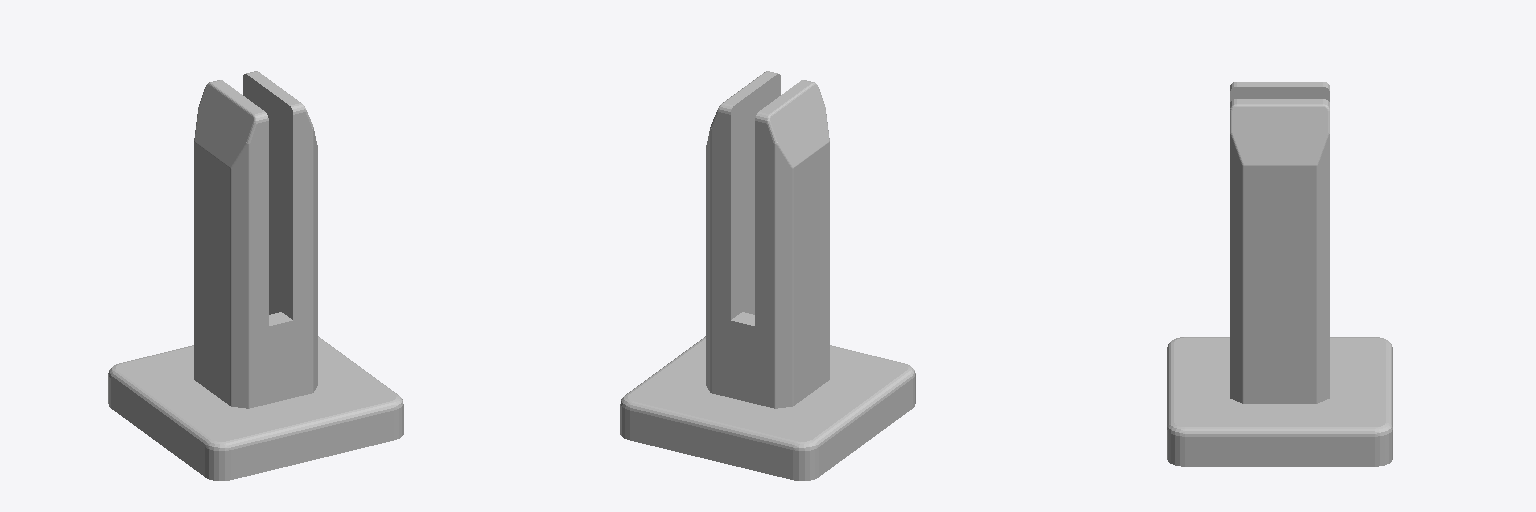
Rendered from spartan-spigot-mm.obj.
3 renders of one model, left to right at view 1: azimuth 30°, elevation 25°; view 2: azimuth 150°, elevation 25°; view 3: azimuth 270°, elevation 25°, orthographic.
Visible parts, largest first — view 1: Solid1; view 2: Solid1; view 3: Solid1.
Part boxes in pixels (x1,y1,x2,y2): Solid1: (108,71,403,480); Solid1: (620,71,915,480); Solid1: (1167,82,1392,466).
Bounding box in the file's own units: 102 × 162 × 102.